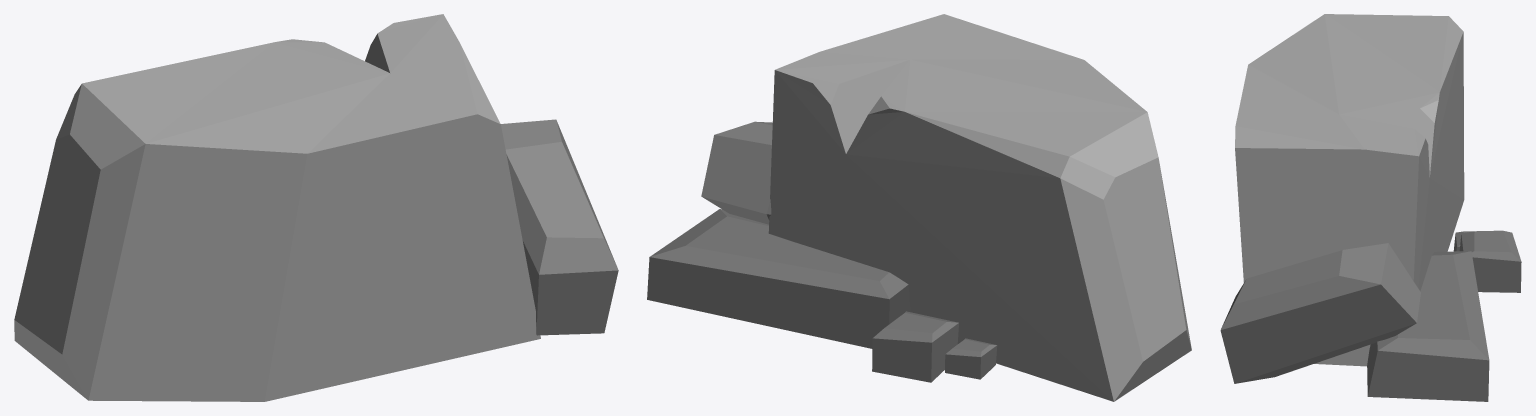
Rendered from EM_rock_fence2.fbx.
3 views of the same model, side by side, from view 1: azimuth 30°, elevation 25°; view 2: azimuth 150°, elevation 25°; view 3: azimuth 270°, elevation 25° (orthographic). The views are drawn at different scales.
Parts seen in each view (by area): view 1: EM_rock_fence2_LOD0; view 2: EM_rock_fence2_LOD0; view 3: EM_rock_fence2_LOD0.
Part boxes in pixels (x1=…): EM_rock_fence2_LOD0: x1=14, y1=14, x2=618, y2=401; EM_rock_fence2_LOD0: x1=647, y1=14, x2=1191, y2=401; EM_rock_fence2_LOD0: x1=1220, y1=14, x2=1521, y2=401.
Size of what is drawn, in the model's own units: 0.9761 by 0.4532 by 0.5928.
